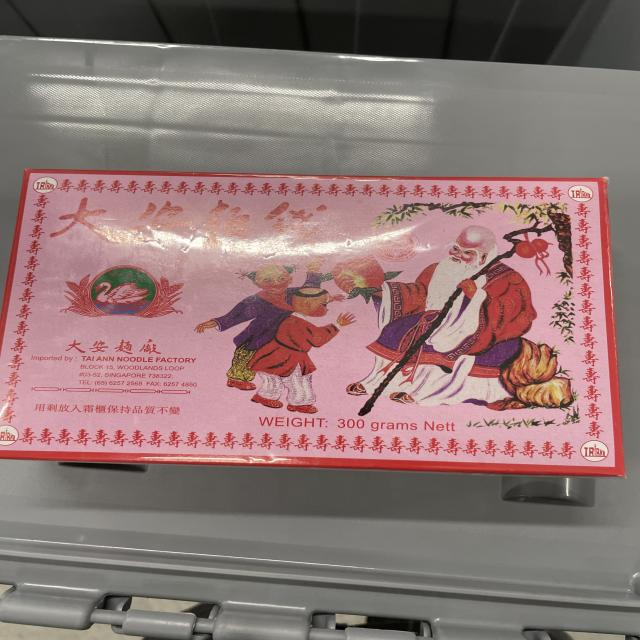object_name: (7, 175, 618, 470)
